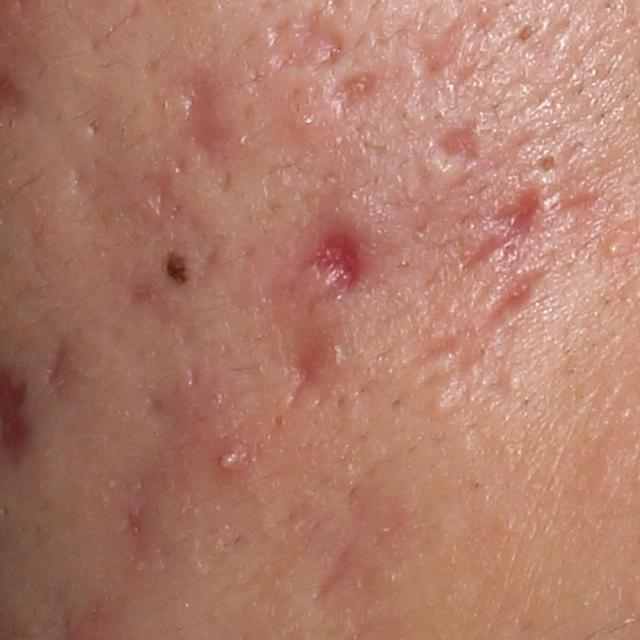atrophic_scar: (297, 225, 366, 312), (172, 80, 229, 173), (264, 10, 337, 78), (487, 260, 551, 324), (311, 539, 360, 609), (417, 20, 466, 83), (326, 72, 385, 119), (287, 341, 325, 412), (115, 488, 160, 547), (433, 124, 487, 173), (488, 188, 541, 234), (461, 231, 519, 268), (403, 334, 466, 368), (142, 171, 178, 219), (41, 339, 72, 387)
comedo: (537, 153, 568, 175), (424, 396, 451, 420), (501, 374, 523, 396), (603, 241, 625, 256)
nevus: (153, 246, 196, 289)
pustule: (216, 446, 250, 472)
